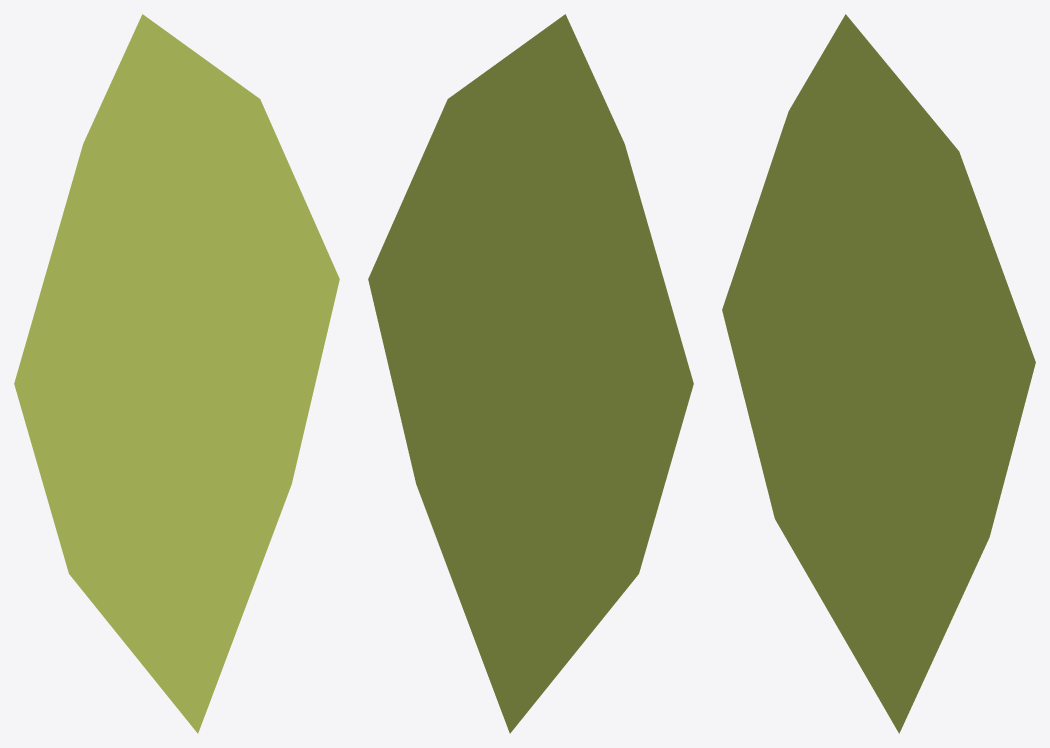
The model's file is LeafBigTree0.glb.
3 renders of one model, left to right at view 1: azimuth 30°, elevation 25°; view 2: azimuth 150°, elevation 25°; view 3: azimuth 330°, elevation 25°, orthographic. The views are drawn at different scales.
Visible parts, largest first — view 1: Leaf_YellowGreen_Bent.018; view 2: Leaf_YellowGreen_Bent.018; view 3: Leaf_YellowGreen_Bent.018.
Boxes of the visible parts, left/top/right/bottom form: Leaf_YellowGreen_Bent.018: left=14, top=14, right=339, bottom=733; Leaf_YellowGreen_Bent.018: left=368, top=14, right=693, bottom=733; Leaf_YellowGreen_Bent.018: left=722, top=14, right=1035, bottom=733.
Size of the model in its own units: 0.1145 by 0.2465 by 0.
